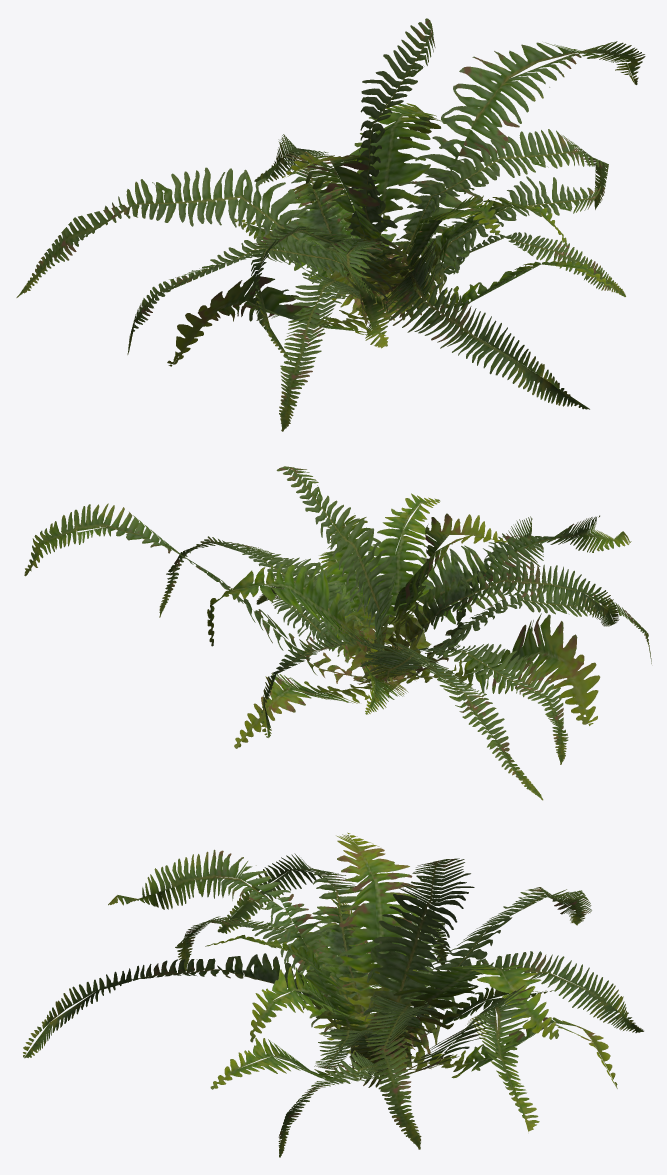
The model's file is Plant_A.glb.
The picture shows the model from 3 angles, top to bottom: view 1: azimuth 30°, elevation 25°; view 2: azimuth 150°, elevation 25°; view 3: azimuth 270°, elevation 25°; orthographic projection. The views are drawn at different scales.
Parts seen in each view (by area): view 1: Plant_A; view 2: Plant_A; view 3: Plant_A.
Part boxes in pixels (left/top/right/bottom): Plant_A: left=16, top=18, right=645, bottom=431; Plant_A: left=24, top=466, right=651, bottom=800; Plant_A: left=23, top=832, right=643, bottom=1157.
Size of the model in its own units: 0.8211 by 0.339 by 0.734.
1 material, 1 textured.
